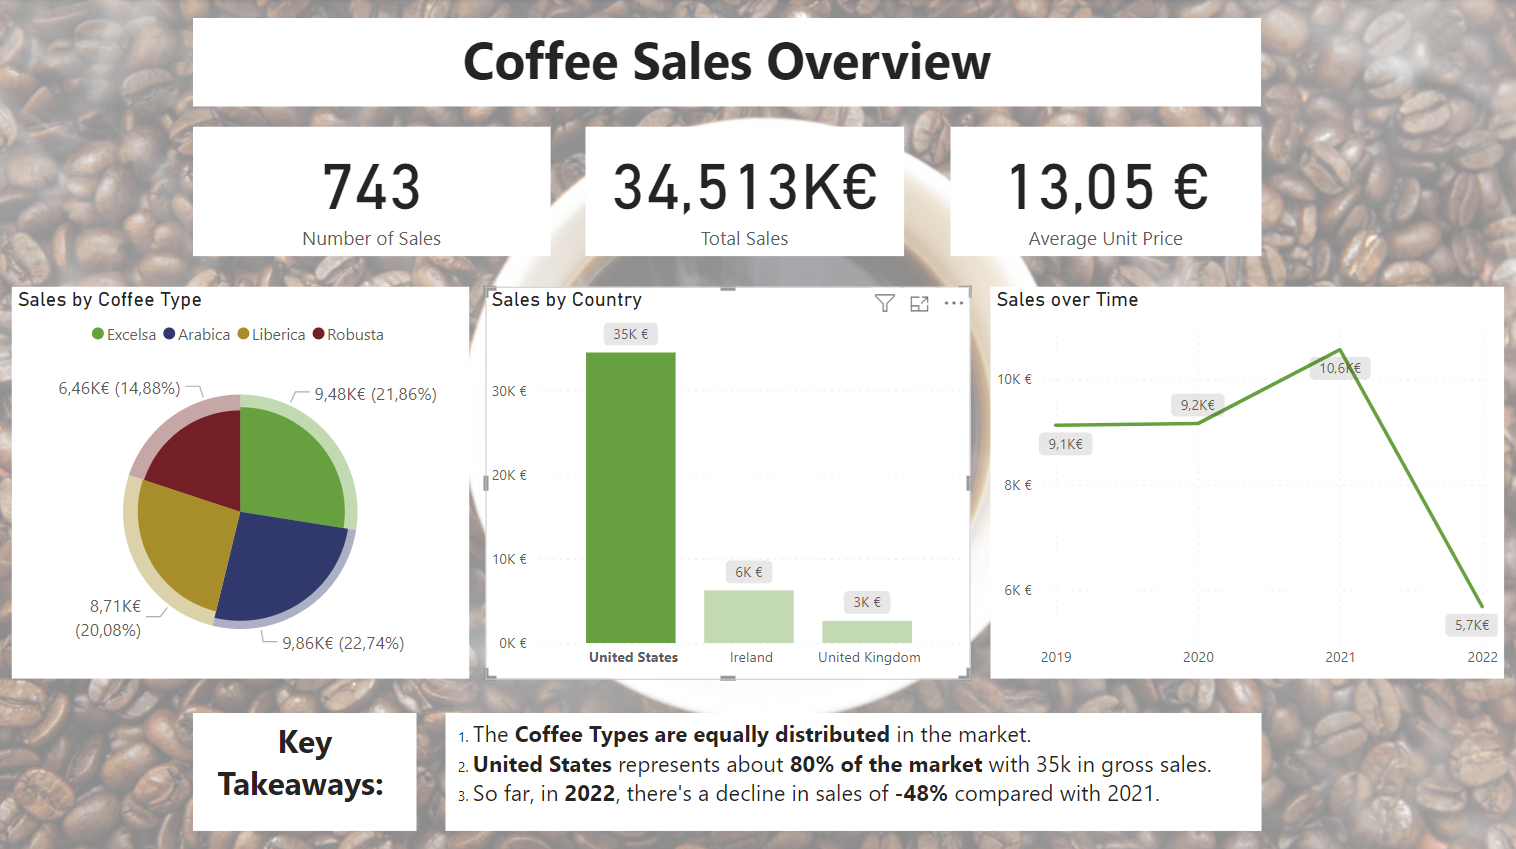

This screenshot's page, from the dashboard's own definition file:
{"tool":"powerbi","page":{"name":"Overview","canvas":[1280,720],"ordinal":0},"visuals":[{"type":"textbox","box":[187.2,0,901.2,74.4],"z":0},{"type":"pieChart","title":"Sales by Coffee Type","fields":{"Category":["products.Coffee Type"],"Y":["Sum(orders.Sales)"]},"box":[0,205.8,432.6,361.6],"z":1000},{"type":"clusteredColumnChart","fields":{"Category":["customers.Geo Hierarchy.Country"],"Y":["orders.Total Sales"]},"box":[432.6,205.8,410.5,361.6],"z":2000},{"type":"card","fields":{"Values":["orders.Total Sales"]},"box":[476.7,74.4,323.3,152.3],"z":3000},{"type":"card","fields":{"Values":["Count(orders.Order ID)"]},"box":[153.5,75.6,323.3,152.3],"z":4000},{"type":"card","fields":{"Values":["Avg(products.Unit Price)"]},"box":[800,76.7,323.3,152.3],"z":5000},{"type":"lineChart","title":"Total Sales over Time","fields":{"Y":["orders.Total Sales"],"Category":["Date.Year"]},"box":[843,205.8,437.2,361.6],"z":6000},{"type":"textbox","box":[222.1,587.2,184.9,90.7],"z":6001},{"type":"textbox","box":[407,587.2,708.1,90.7],"z":6002}]}

Visuals, with their boxes in screenshot pixels (x1, y1, x2, y2), scaled from the page's 1280x720 canvas onto the 1516x849 screenshot:
textbox: (222, 0, 1289, 88)
"Sales by Coffee Type" pieChart: (0, 243, 512, 669)
clusteredColumnChart - customers.Geo Hierarchy.Country x orders.Total Sales: (512, 243, 999, 669)
card - orders.Total Sales: (565, 88, 948, 267)
card - Count(orders.Order ID): (182, 89, 565, 269)
card - Avg(products.Unit Price): (948, 90, 1330, 270)
"Total Sales over Time" lineChart: (998, 243, 1515, 669)
textbox: (263, 692, 482, 799)
textbox: (482, 692, 1321, 799)
